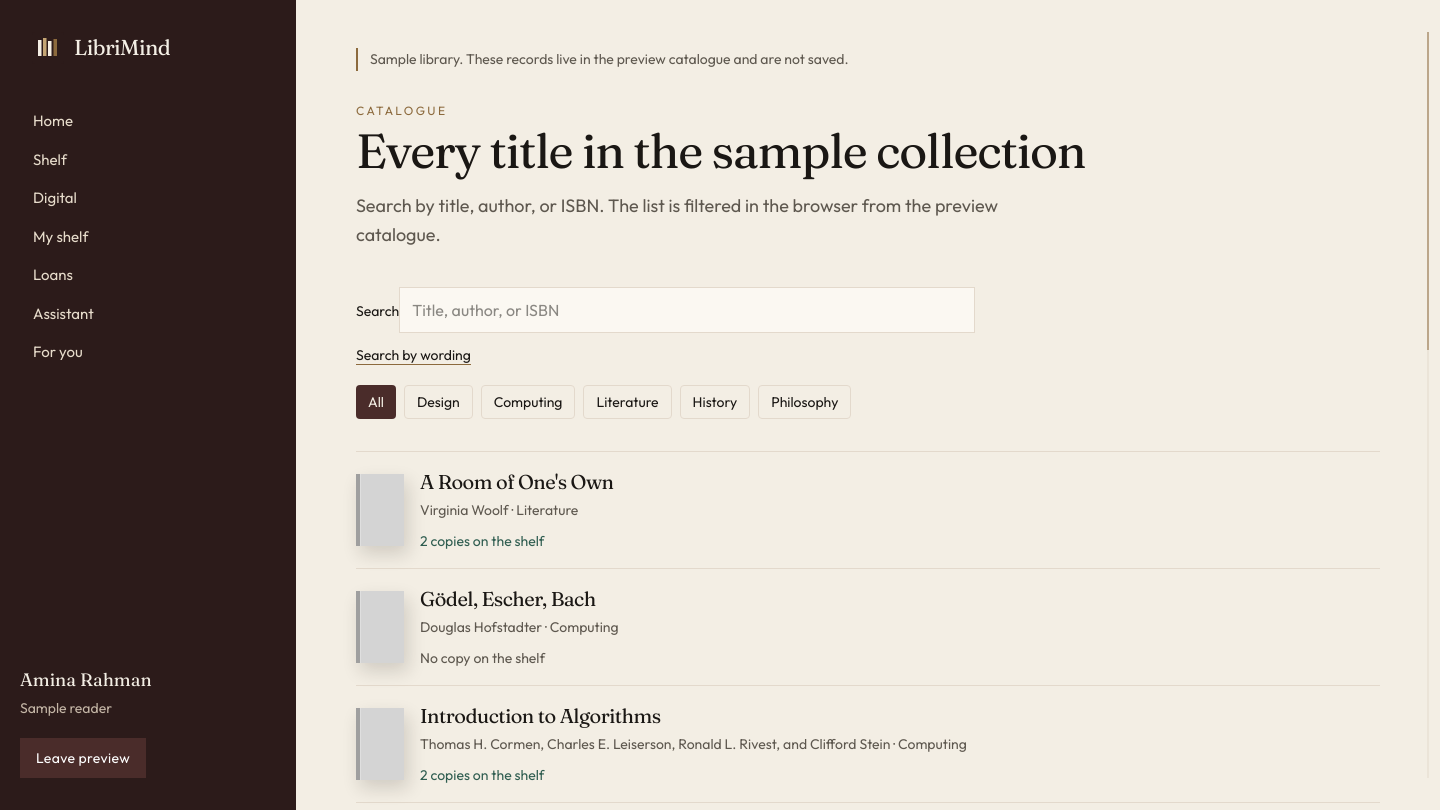
Test case: catalogue › labels the preview and filters the sample records
Expected: the text "Sample library" is shown, [370,50,848,68]
Type "plato" into the field labelled "Search" at (687, 310), box [399,287,975,333]
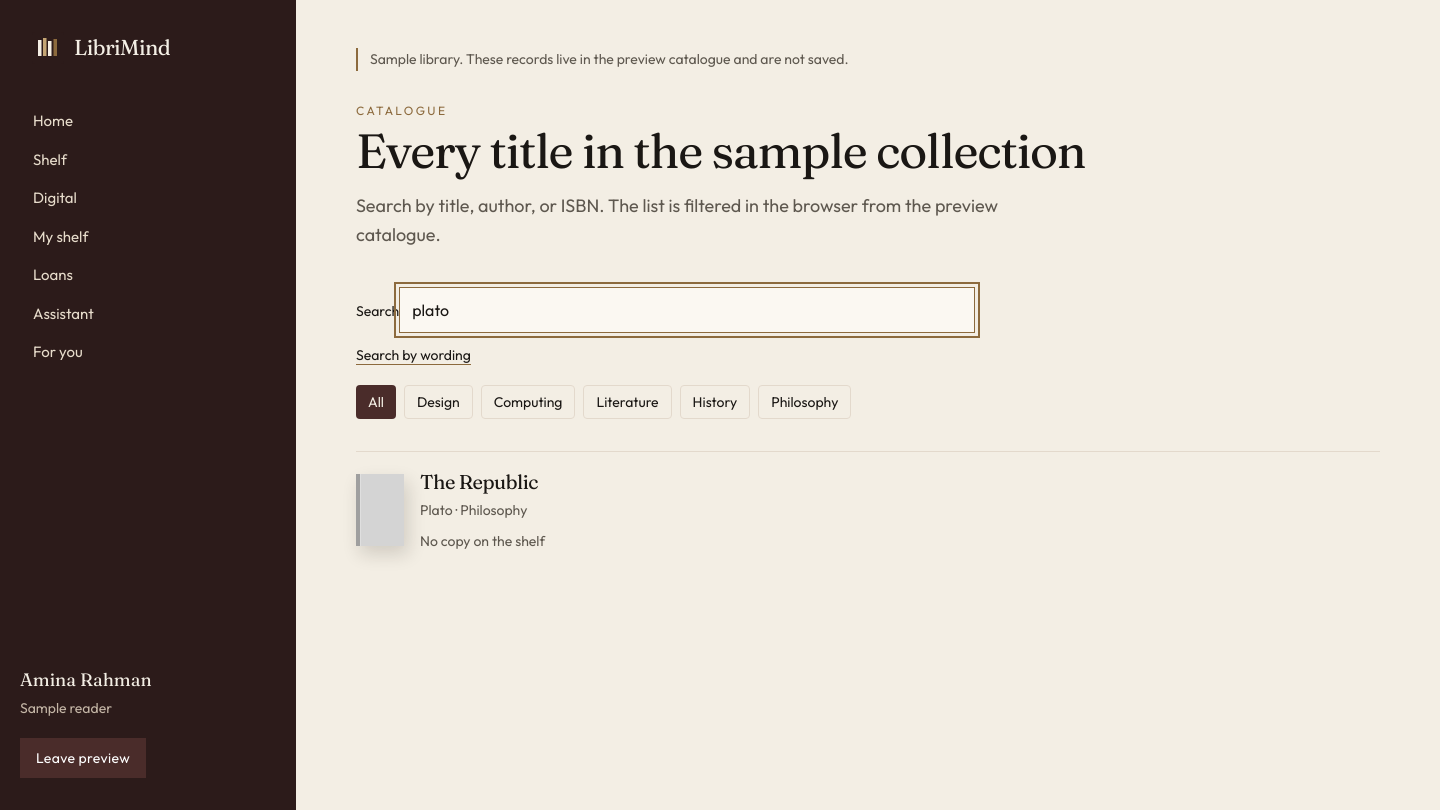
Expected: the link "The Republic Plato · Philosophy No copy on the shelf" is shown, [356,469,545,550]
Replace the text in the field labelled "Search" with "zzzz-no-such-book" at (687, 310), box [399,287,975,333]
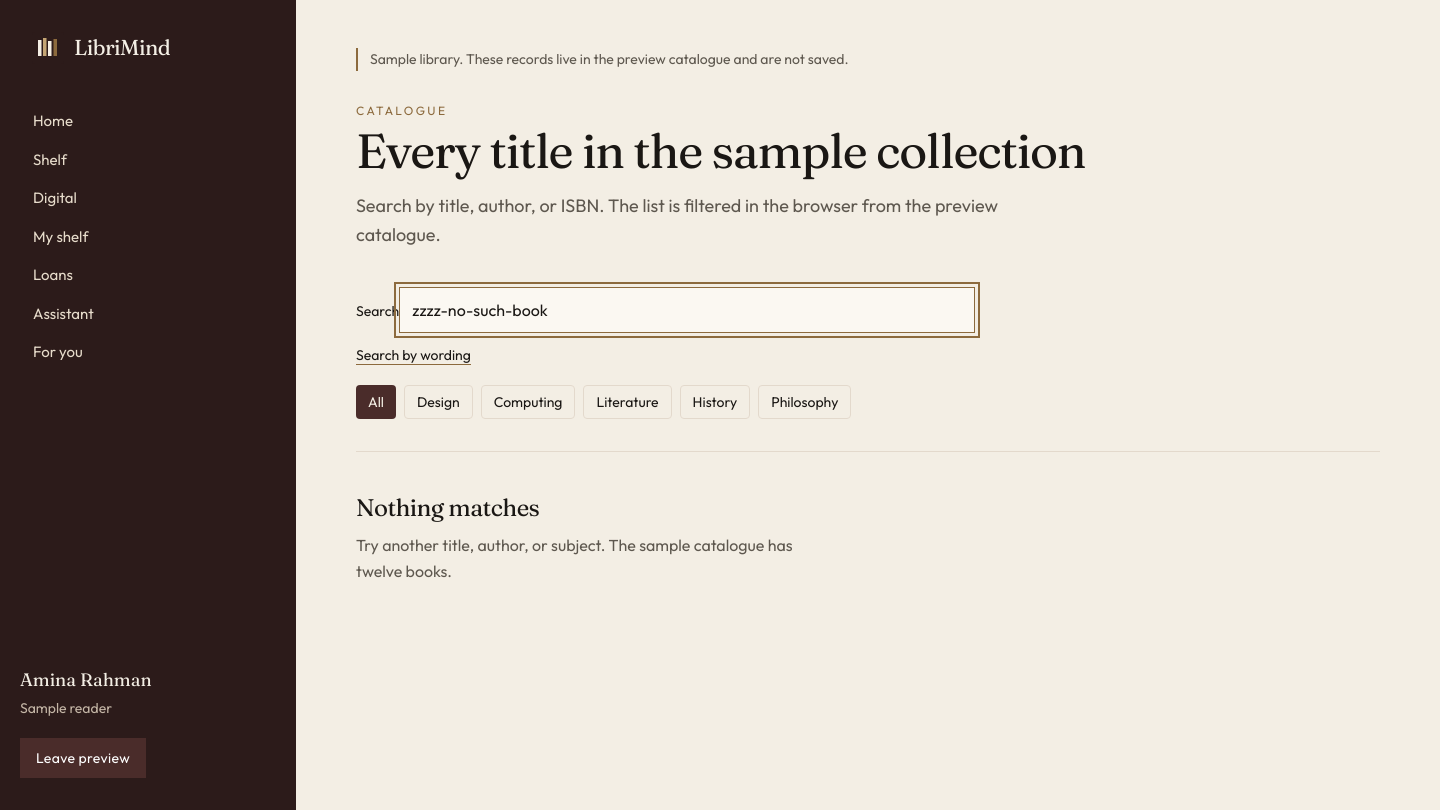
Expected: the heading "Nothing matches" is shown, [356,493,539,522]
